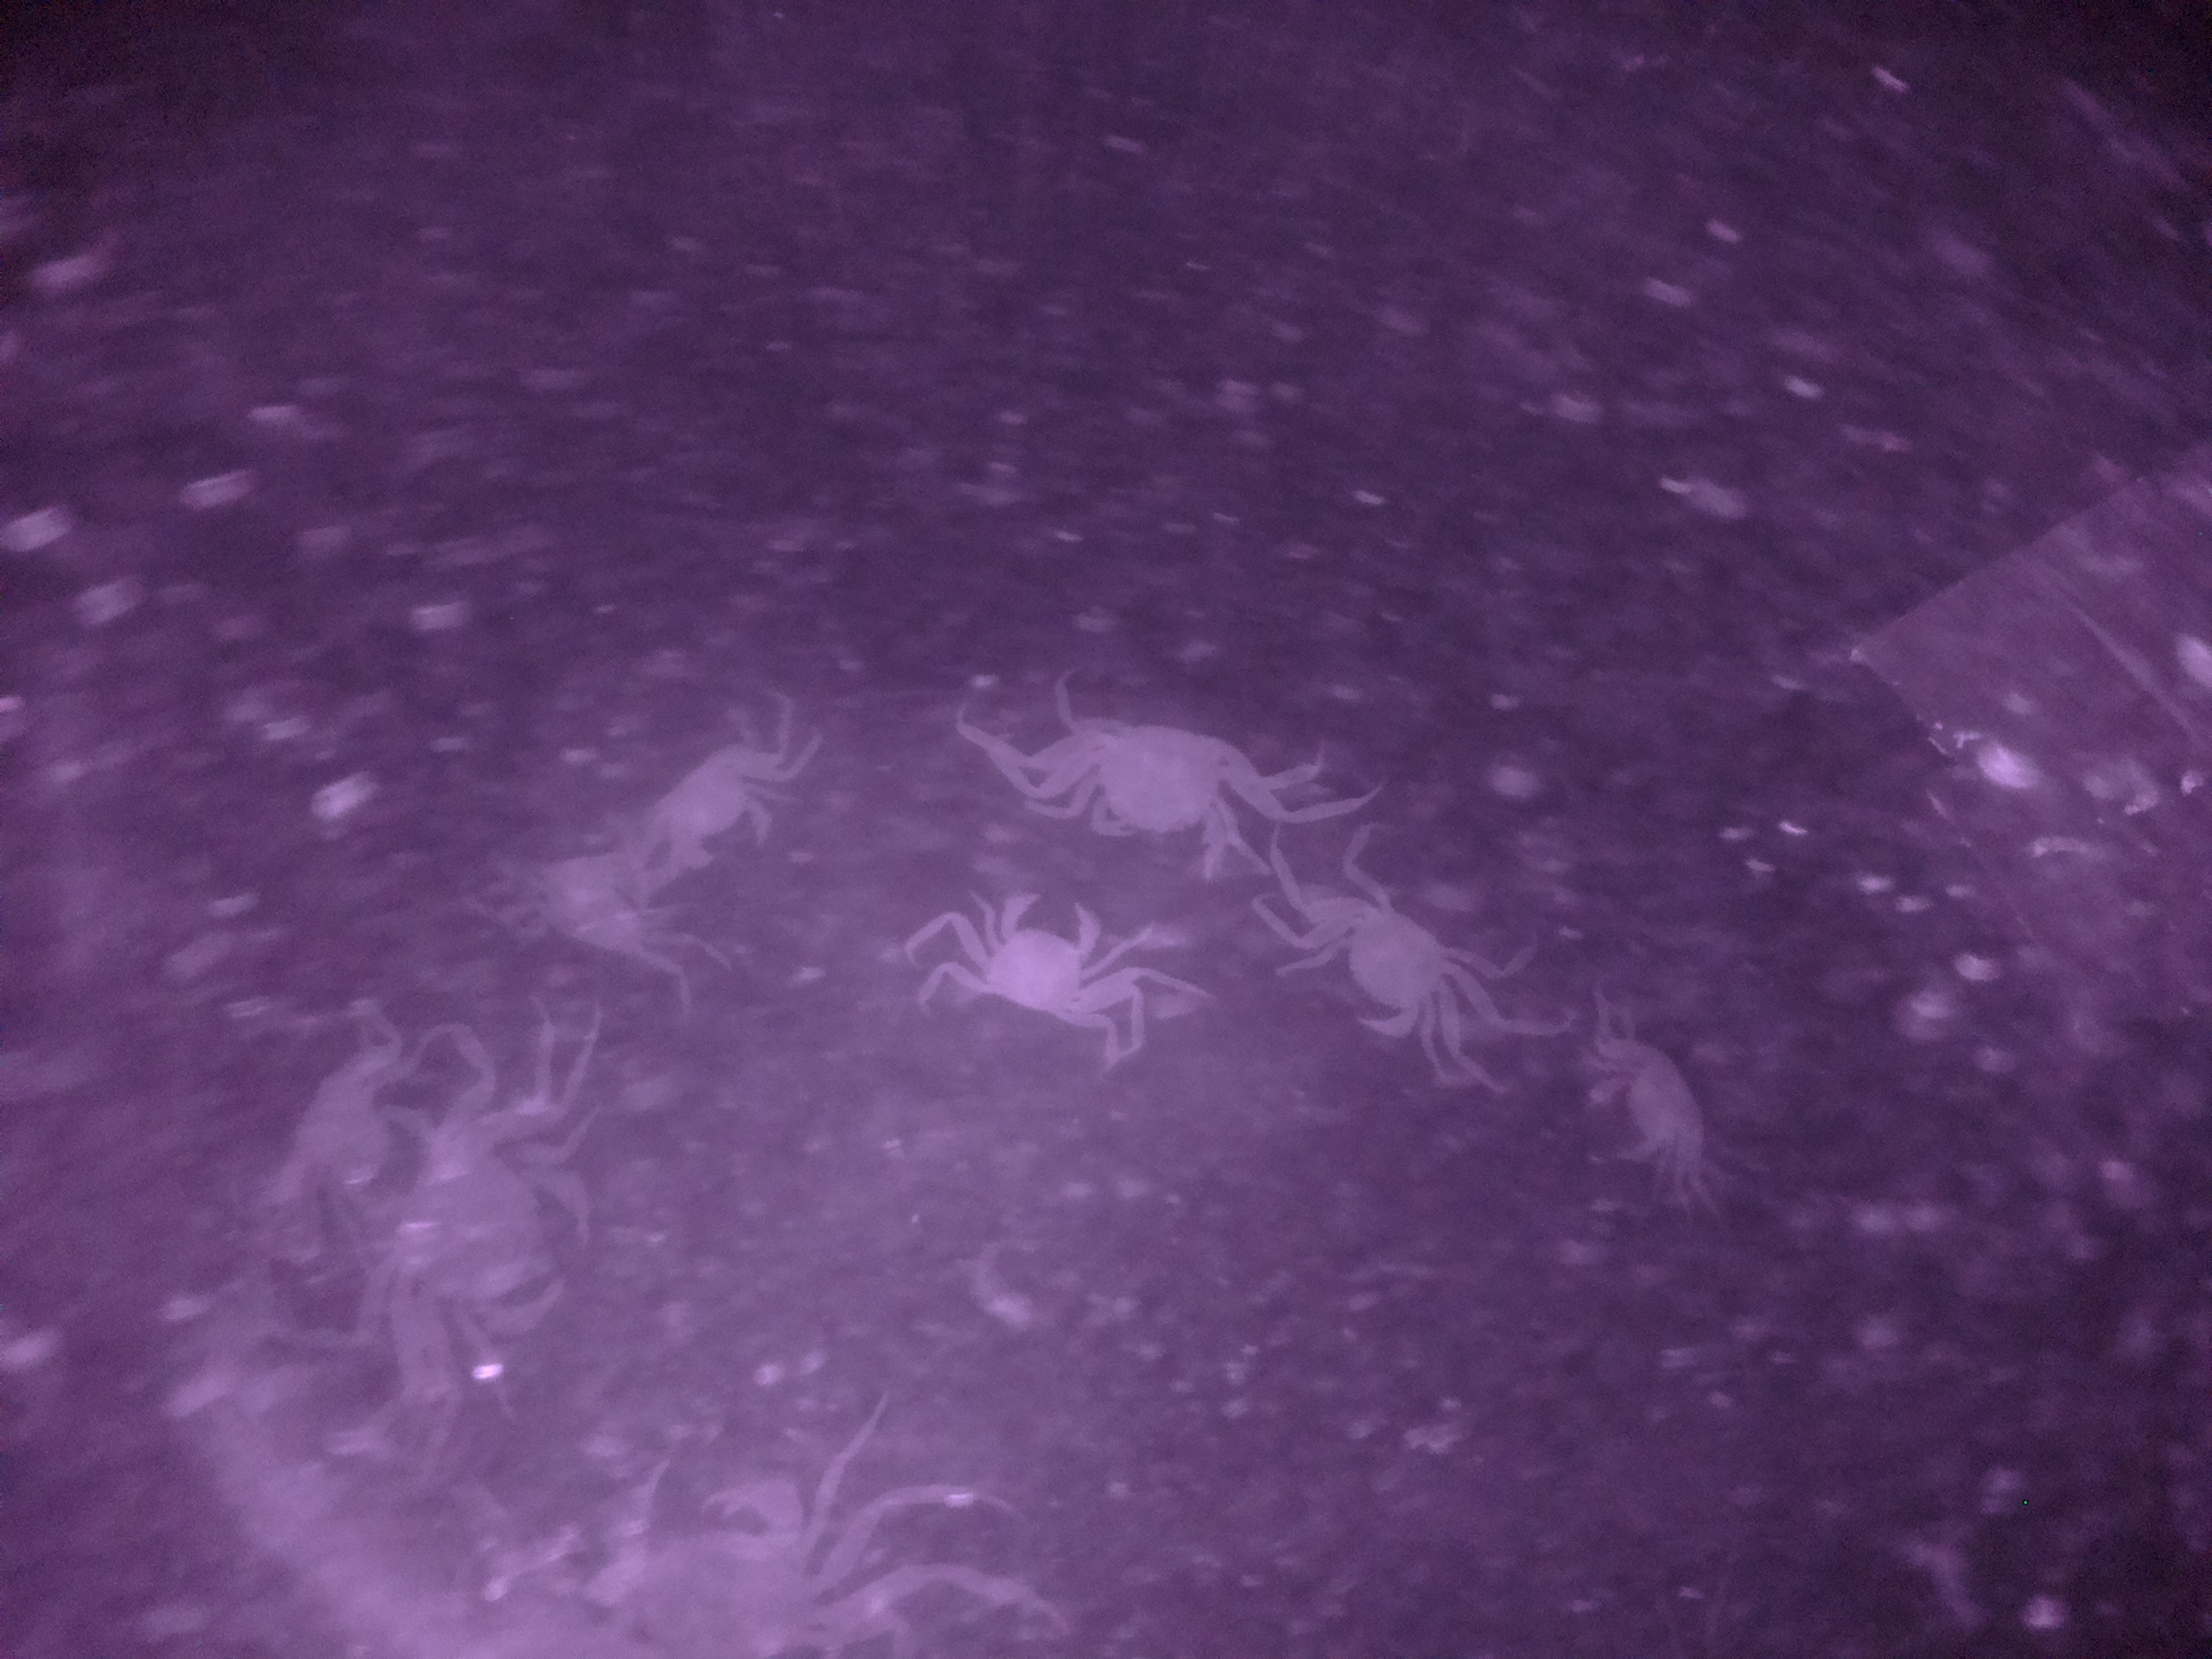Crab: (1047, 687, 1268, 885), (1268, 873, 1494, 1039), (949, 880, 1137, 1054), (618, 732, 794, 864)
